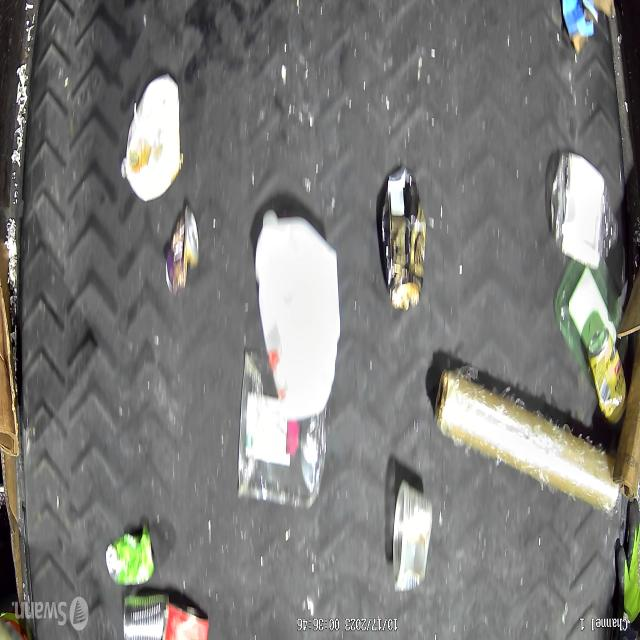can: (379, 165, 427, 308), (588, 328, 626, 423), (164, 208, 200, 296), (106, 525, 154, 585), (123, 594, 169, 640)
milk_jug: (254, 209, 342, 421), (125, 75, 181, 201)
